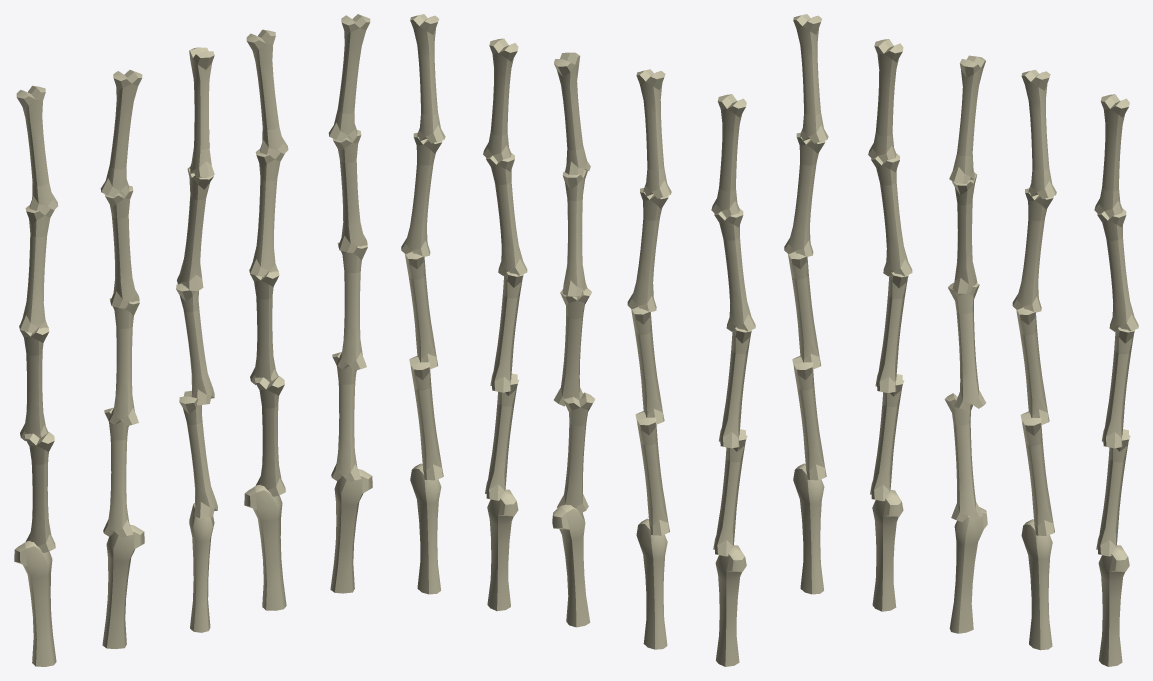
The model's file is Verticales_S.fbx.
3 renders of one model, left to right at view 1: azimuth 30°, elevation 25°; view 2: azimuth 150°, elevation 25°; view 3: azimuth 330°, elevation 25°, orthographic.
Visible parts, largest first — view 1: Verticales_S; view 2: Verticales_S; view 3: Verticales_S.
Boxes of the visible parts, bbox=[...] form: Verticales_S: bbox=[14, 14, 372, 666]; Verticales_S: bbox=[401, 14, 755, 666]; Verticales_S: bbox=[784, 14, 1138, 666].
Bounding box in the file's own units: 183 × 285 × 21.17.
